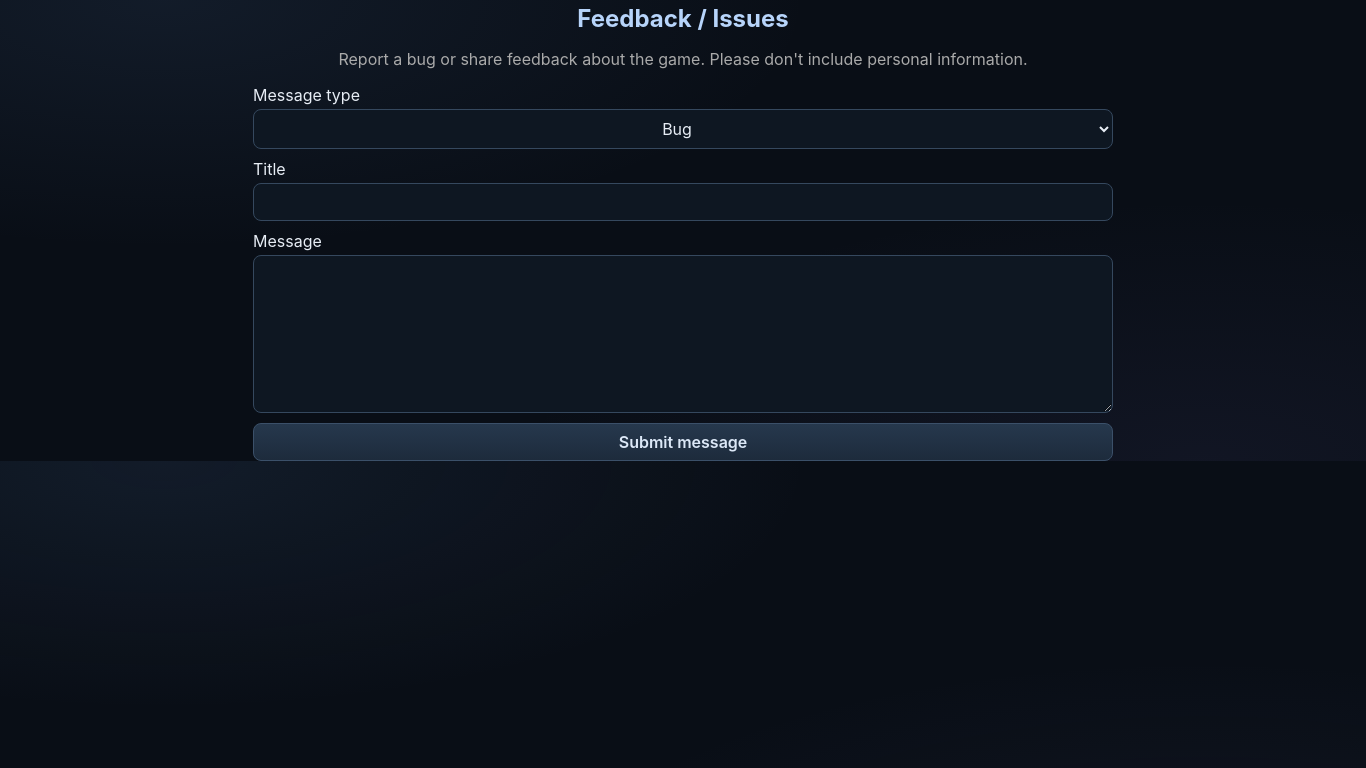
it: submits a bug report and confirms success
Expected: the dropdown labelled "Message type" shows "Bug", [253,109,1113,149]
Type "Quest cannot complete" into the field labelled "Title". click: {"x": 683, "y": 202}
box: [253,183,1113,221]
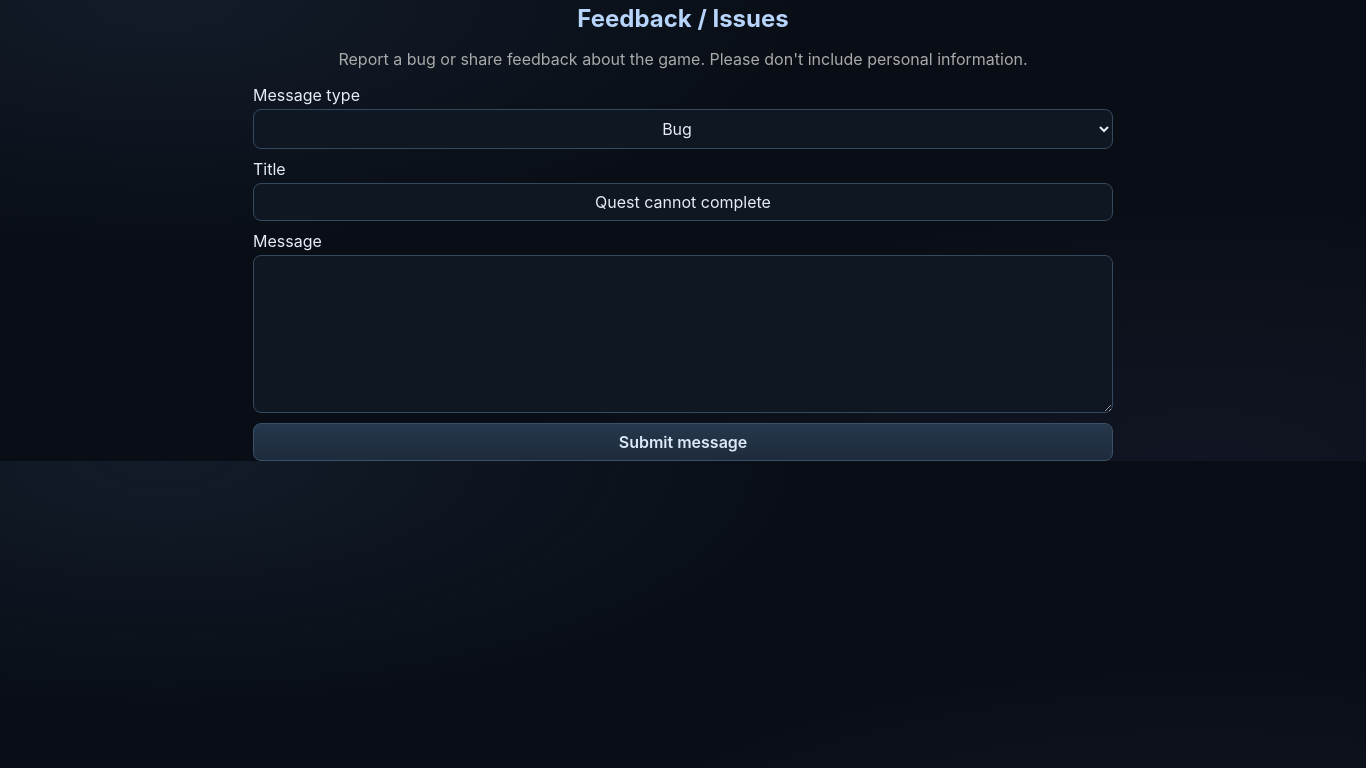
Type "The final objective never updates." into the text box labelled "Message". click: {"x": 683, "y": 334}
box: [253,255,1113,413]
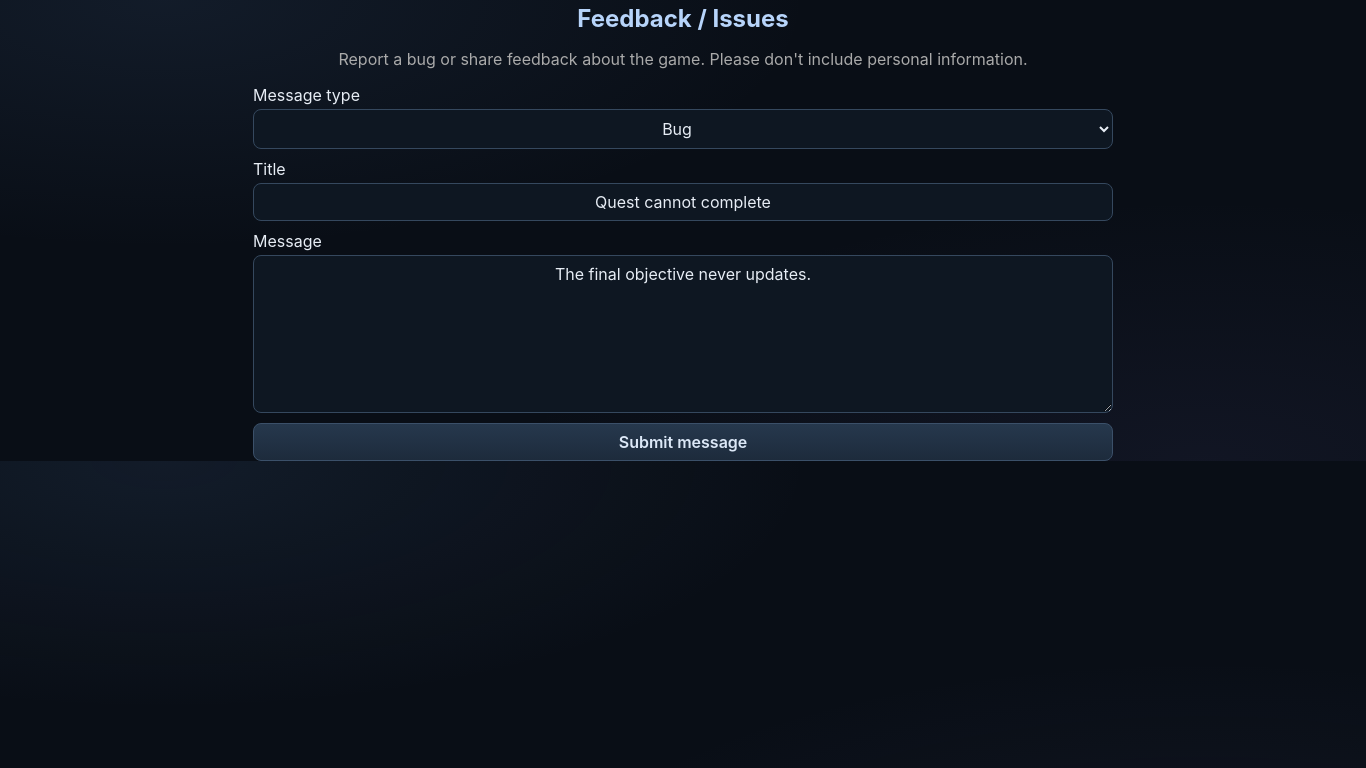
Click the button "Submit message". click: {"x": 683, "y": 442}
box: [253,423,1113,461]
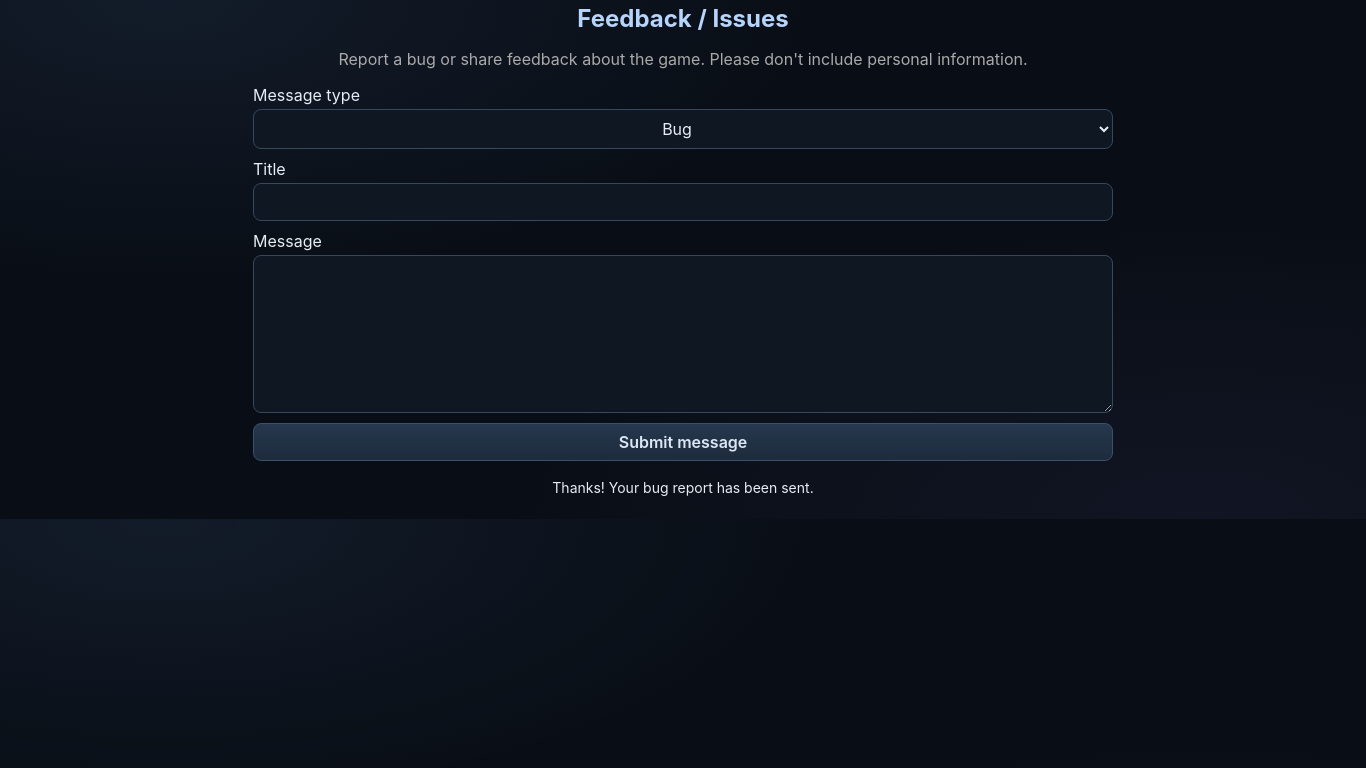
Expected: the message reads "Thanks! Your bug report has been sent.", [552,479,814,496]
